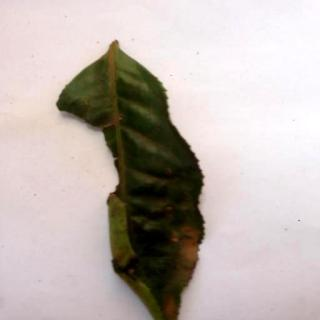Algal Leaf: (60, 41, 207, 320)
